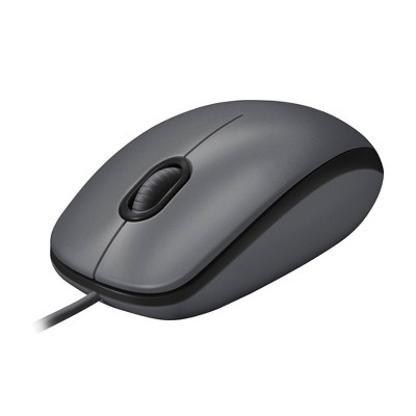not trash: (48, 100, 382, 317)
